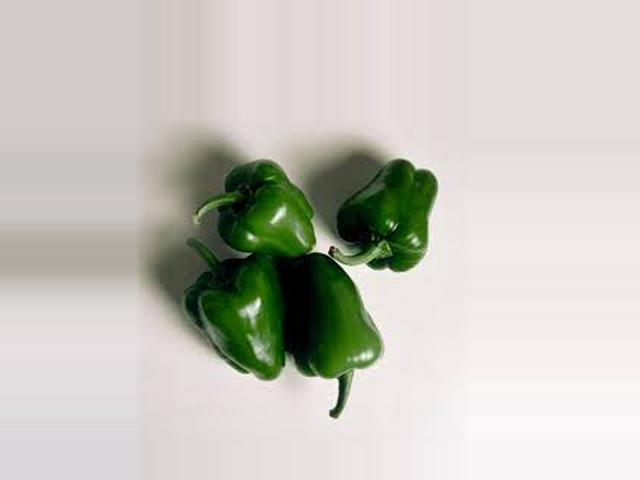bell_pepper: (195, 160, 321, 248)
